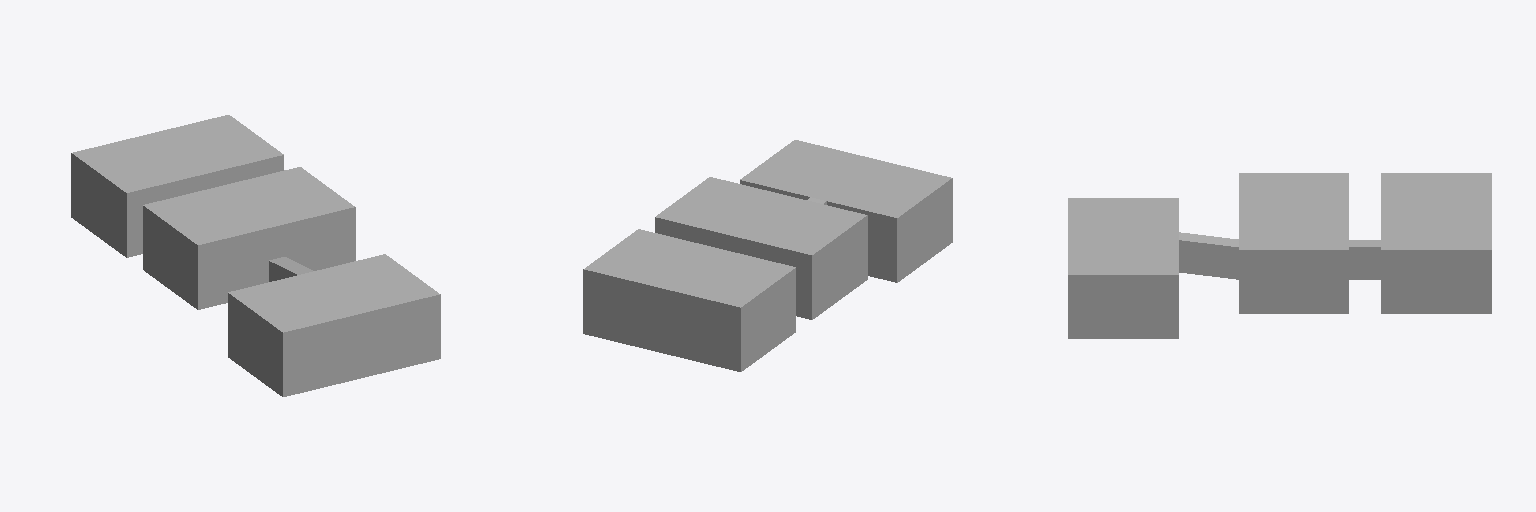
The model's file is placeholder_room2 (1).obj.
3 views of the same model, side by side, from view 1: azimuth 30°, elevation 25°; view 2: azimuth 150°, elevation 25°; view 3: azimuth 270°, elevation 25° (orthographic).
Visible parts, largest first — view 1: Cube; view 2: Cube; view 3: Cube.
Part boxes in pixels (bbox=[...]): Cube: bbox=[71, 115, 440, 396]; Cube: bbox=[583, 140, 952, 371]; Cube: bbox=[1068, 173, 1491, 338].
Size of the model in its own units: 8.56 by 4.66 by 19.91.